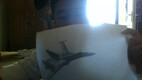maybay_muctieu: (39, 40, 96, 76)
